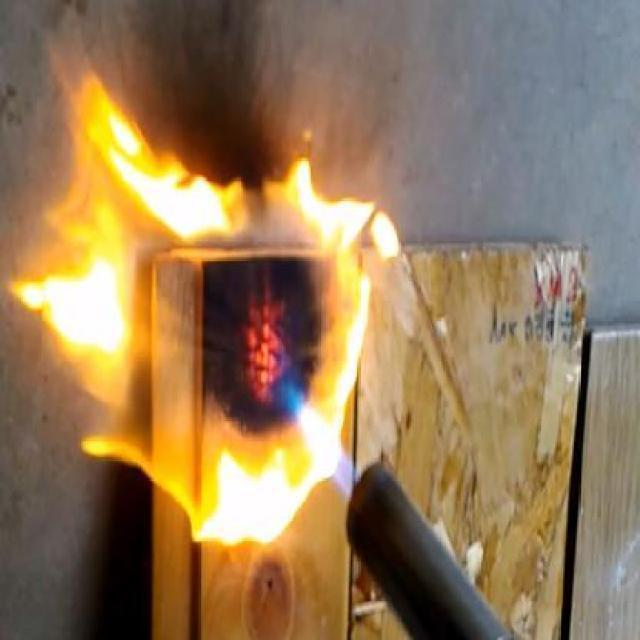fire: (14, 74, 370, 544)
